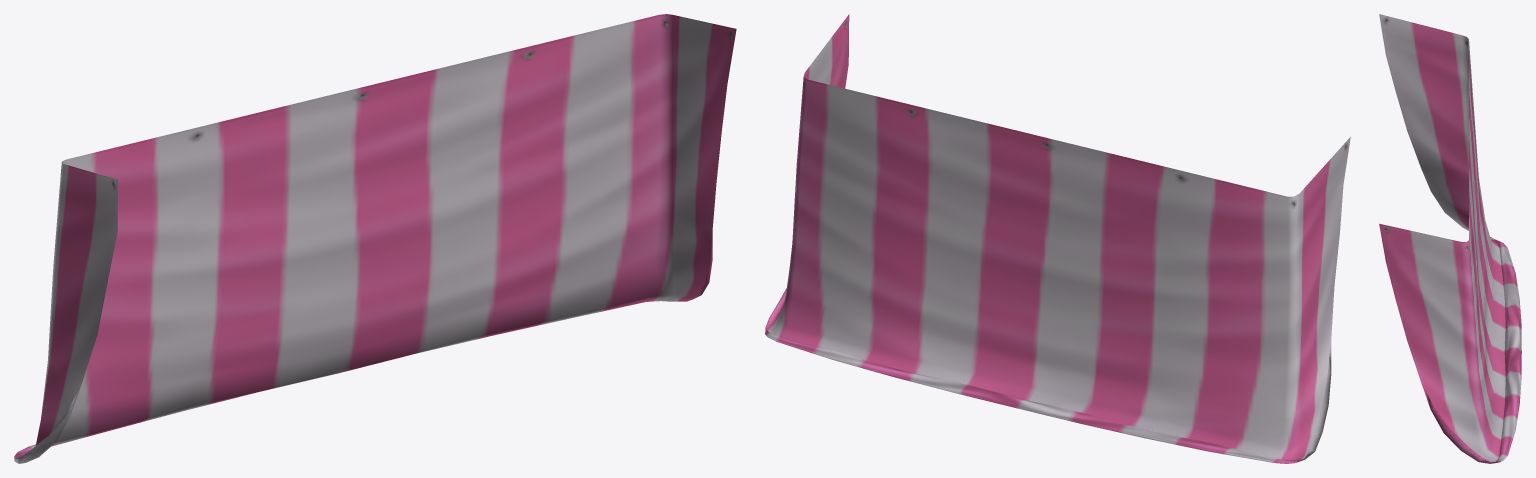
The model's file is jsf_BackSide_s04_c06_t01.fbx.
3 views of the same model, side by side, from view 1: azimuth 30°, elevation 25°; view 2: azimuth 150°, elevation 25°; view 3: azimuth 270°, elevation 25° (orthographic). The views are drawn at different scales.
Visible parts, largest first — view 1: jsf_BackSide_s04_c06_t01; view 2: jsf_BackSide_s04_c06_t01; view 3: jsf_BackSide_s04_c06_t01.
Part boxes in pixels (x1,y1,x2,y2): jsf_BackSide_s04_c06_t01: [14, 14, 736, 463]; jsf_BackSide_s04_c06_t01: [765, 14, 1350, 463]; jsf_BackSide_s04_c06_t01: [1379, 14, 1521, 463].
Bounding box in the file's own units: 425 × 202 × 112.
